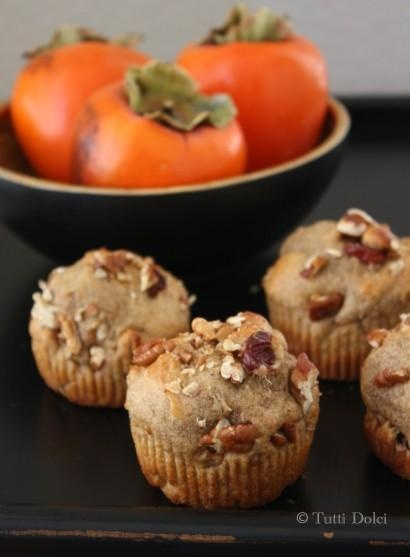background: (17, 179, 262, 442), (5, 0, 212, 164)
